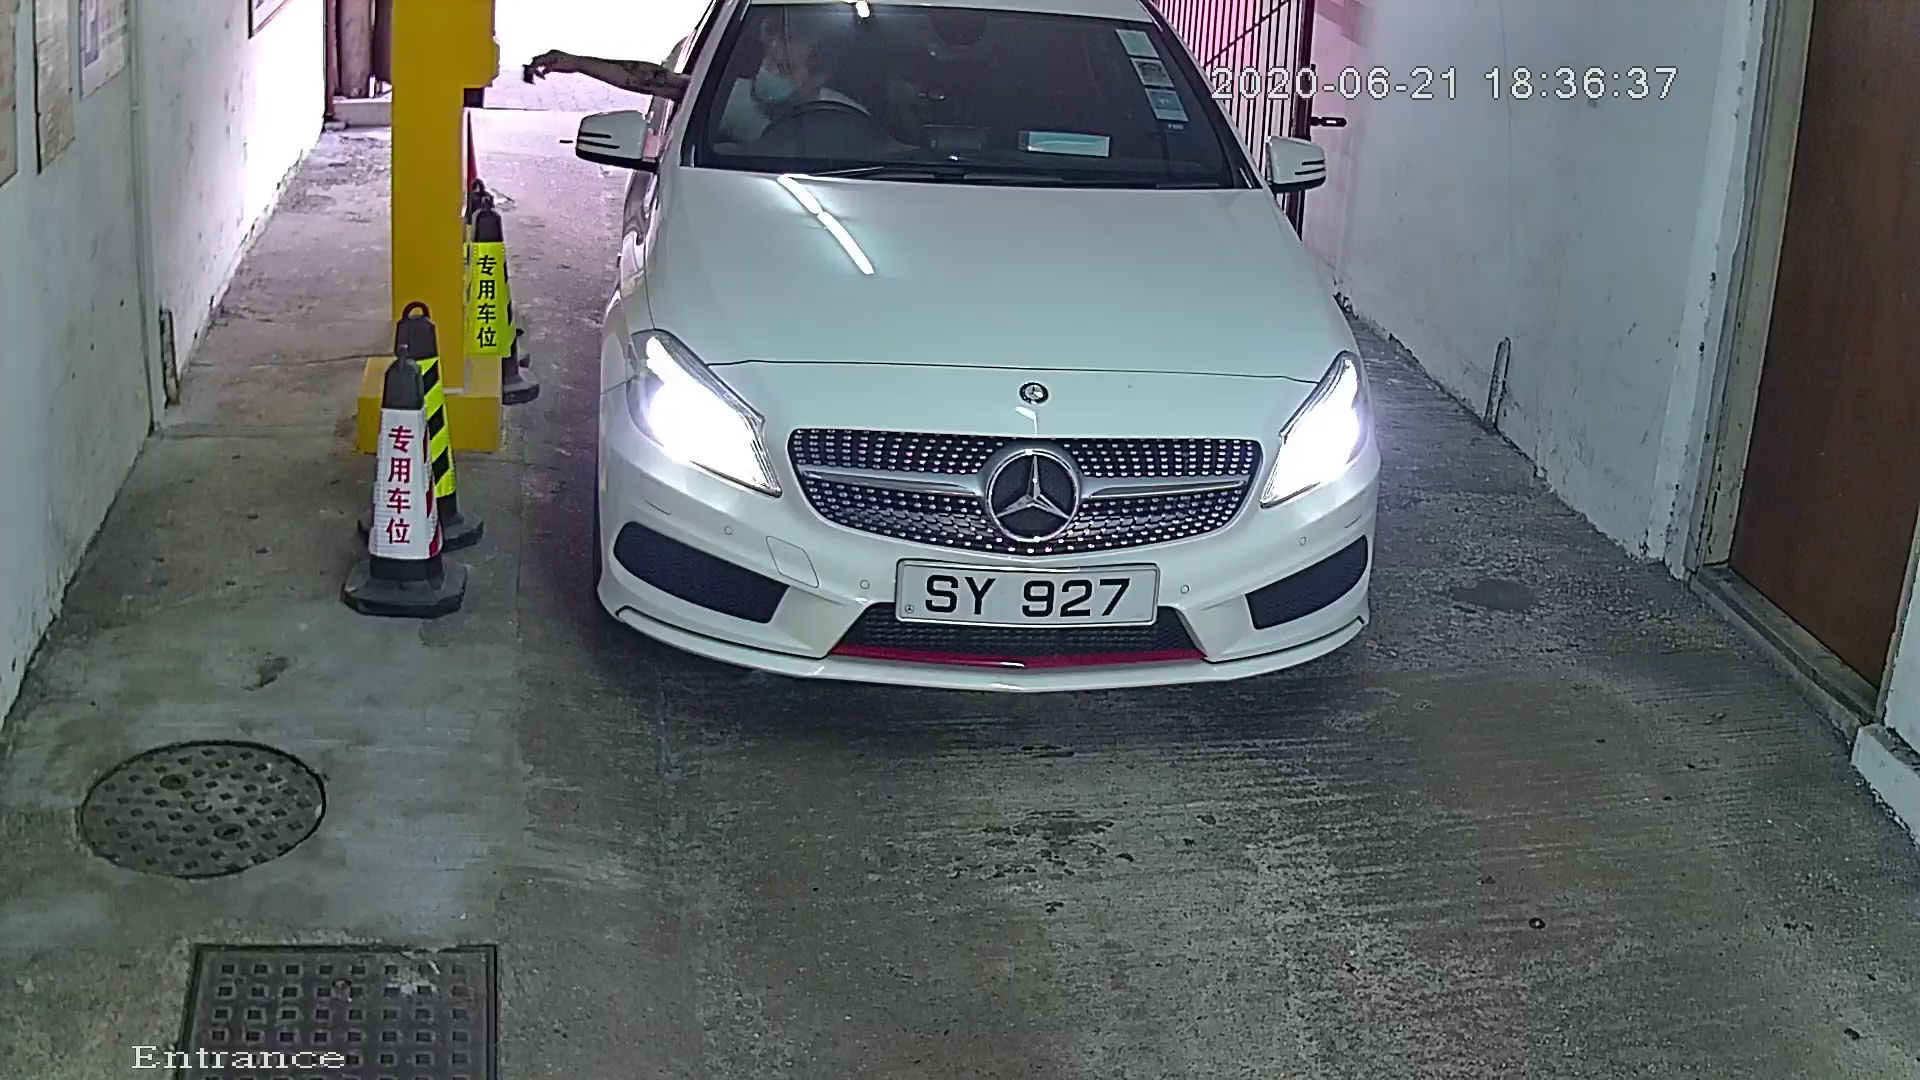privatecar: (535, 3, 1457, 764)
